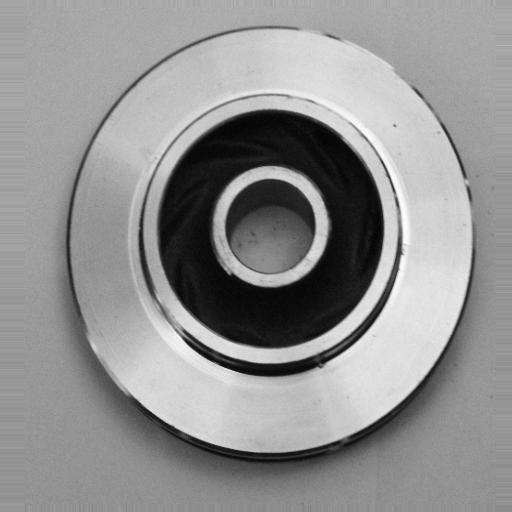scratch: (142, 279, 202, 353)
unpolished_casting: (67, 22, 479, 463)
